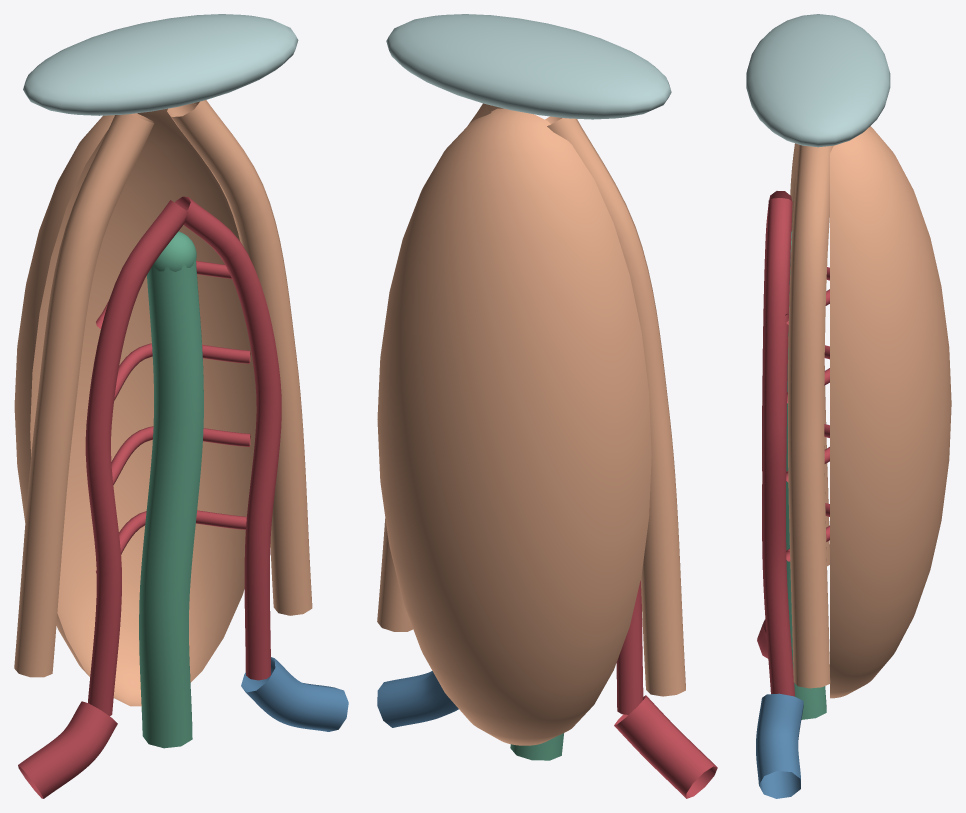
The model's file is villus.glb.
The picture shows the model from 3 angles, left to right: view 1: azimuth 30°, elevation 25°; view 2: azimuth 150°, elevation 25°; view 3: azimuth 270°, elevation 25°; orthographic projection. The views are drawn at different scales.
Parts seen in each view (by area): view 1: surface_epithelium, capillary_network, lacteal, lumen, arteriole, portal_venule; view 2: surface_epithelium, lumen, arteriole, portal_venule, capillary_network, lacteal; view 3: surface_epithelium, lumen, capillary_network, portal_venule, lacteal.
Part boxes in pixels (x1,y1,x2,y2): surface_epithelium: (14, 100, 312, 706); capillary_network: (85, 196, 281, 715); lacteal: (139, 231, 203, 748); lumen: (23, 14, 298, 115); arteriole: (18, 701, 117, 798); portal_venule: (241, 657, 348, 731); surface_epithelium: (377, 103, 685, 745); lumen: (386, 14, 671, 119); arteriole: (614, 695, 717, 798); portal_venule: (377, 671, 458, 727); capillary_network: (616, 580, 643, 714); lacteal: (510, 733, 563, 760); surface_epithelium: (788, 126, 951, 698); lumen: (746, 14, 890, 147); capillary_network: (762, 191, 829, 696); portal_venule: (756, 693, 803, 798); lacteal: (786, 231, 826, 719).
Size of the model in its own units: 1.21 by 2.58 by 0.7082.
